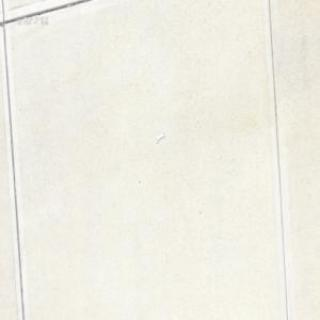Wrenchtrack_idkeyframe: (154, 132, 164, 143)
